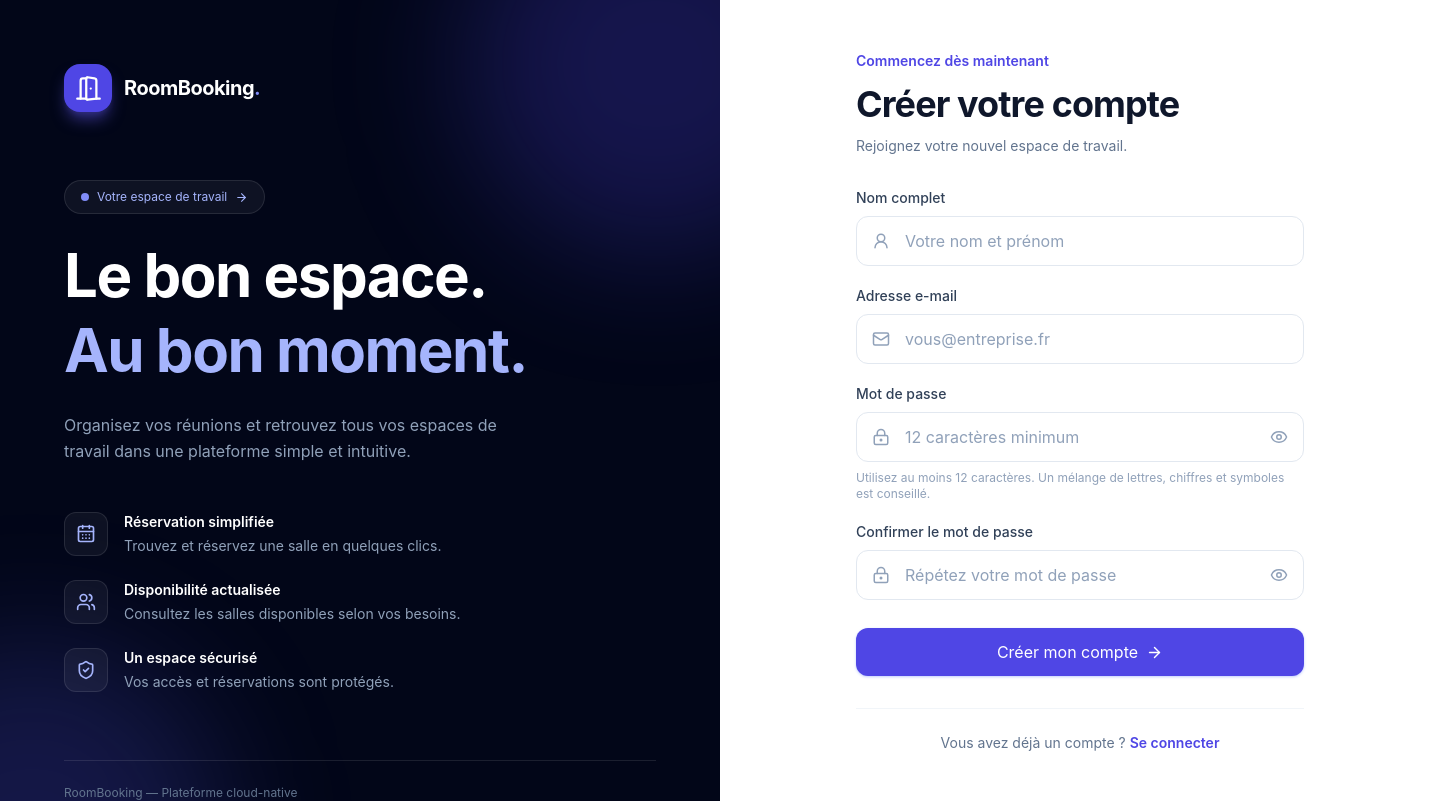
Test: RegisterPage › rejects an empty full name
Type "user@example.com" into the field labelled "Adresse e-mail" at (1080, 339), box [856,314,1304,364]
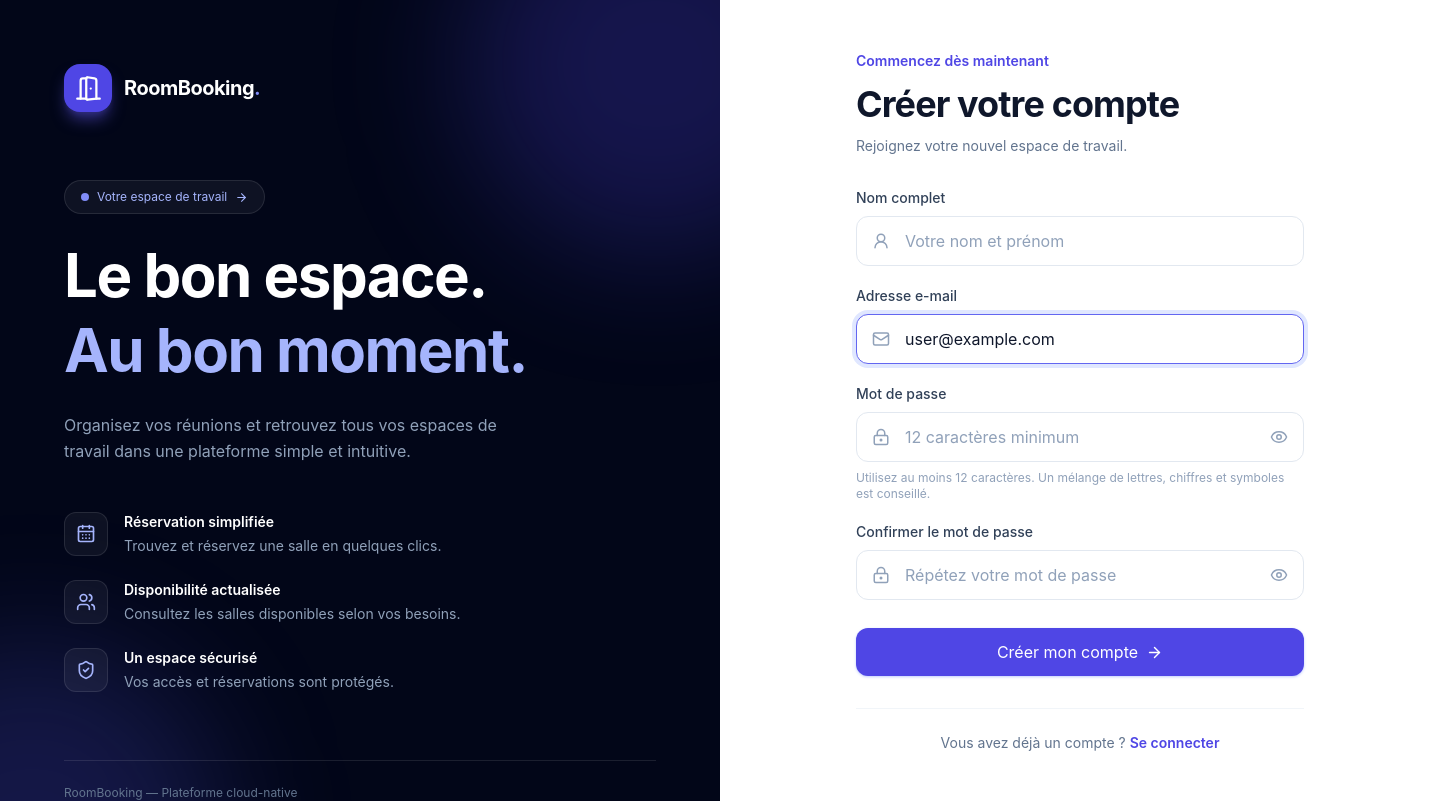
Type "TestPassword@2026!" into the password field labelled "Mot de passe" at (1080, 437), box [856,412,1304,462]
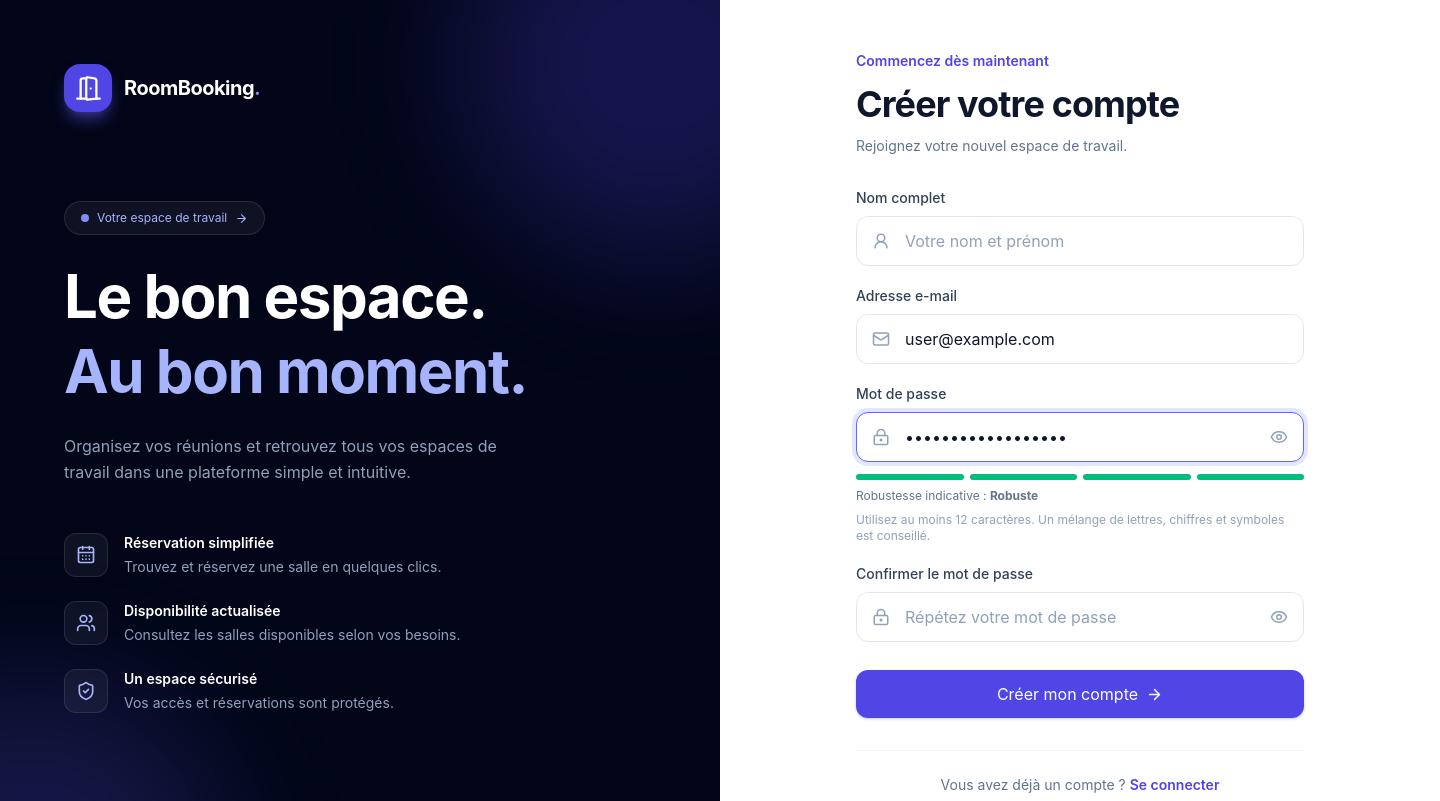
Type "TestPassword@2026!" into the password field labelled "Confirmer le mot de passe" at (1080, 617), box [856,592,1304,642]
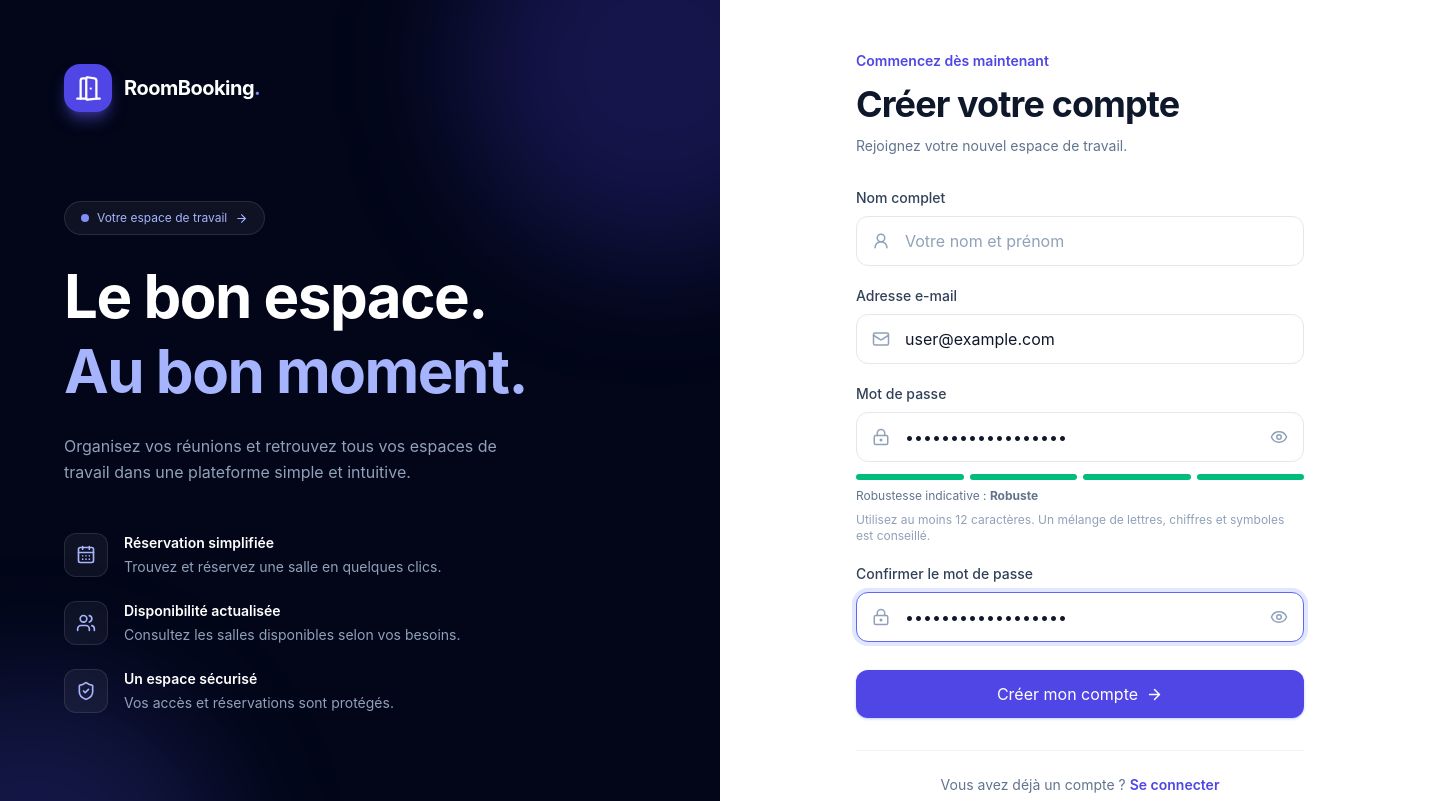
Click the button "Créer mon compte" at (1080, 694), box [856,670,1304,718]
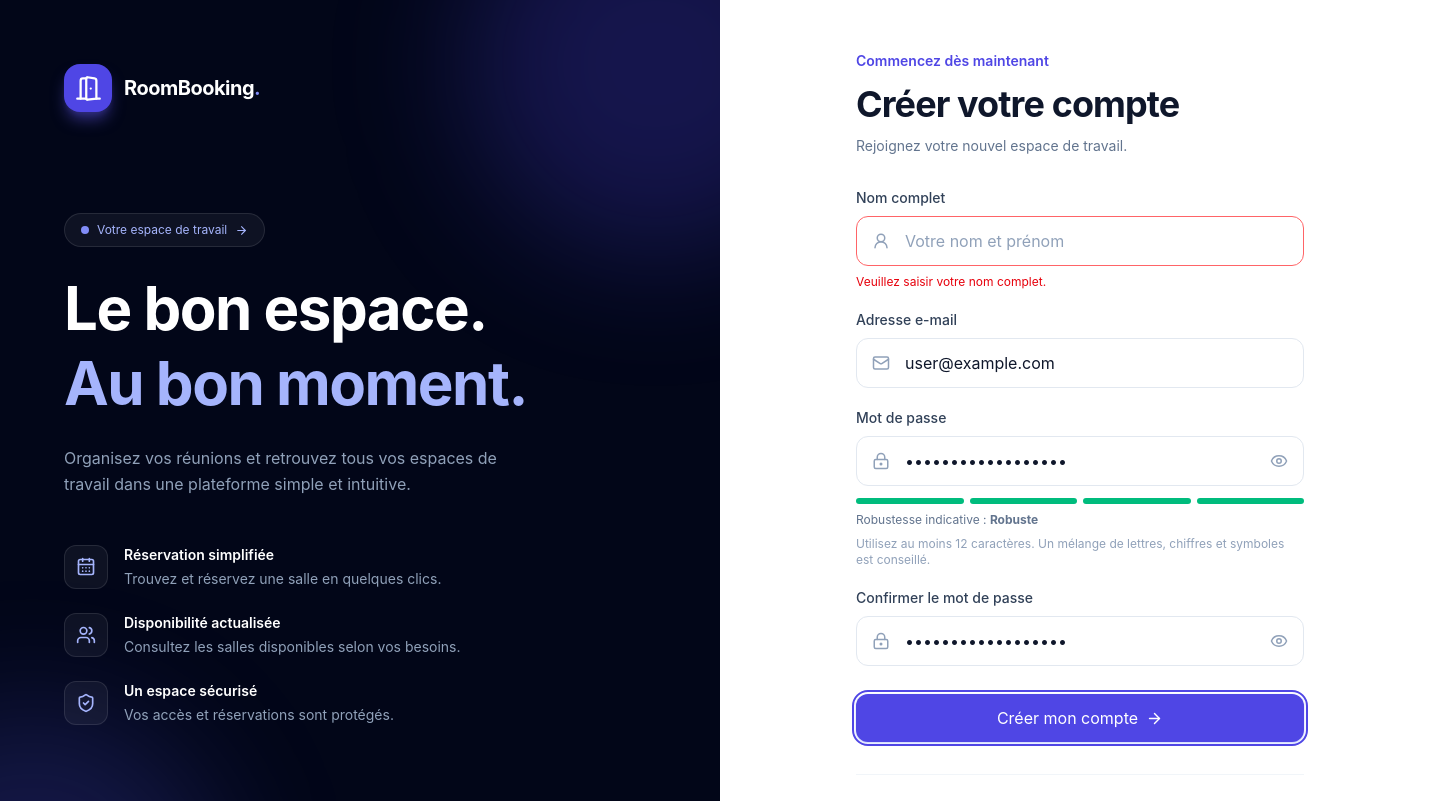
expect the text "Veuillez saisir votre nom complet." is shown: met, box [856,274,1046,289]
